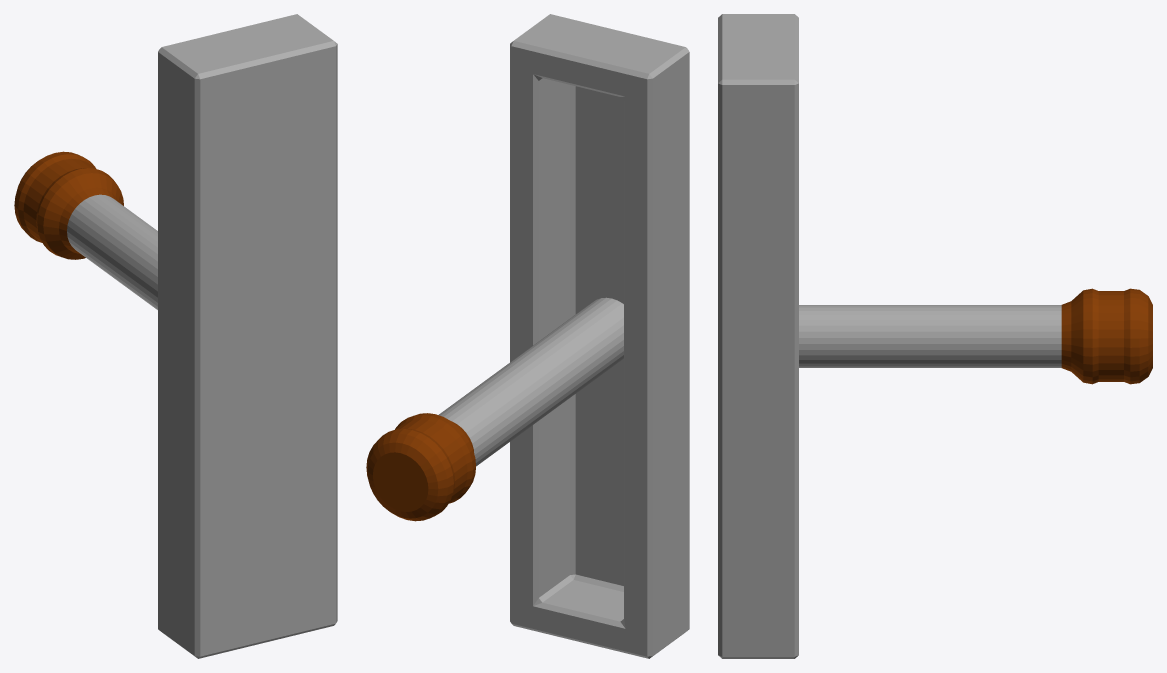
File: crank.fbx
3 views of the same model, side by side, from view 1: azimuth 30°, elevation 25°; view 2: azimuth 150°, elevation 25°; view 3: azimuth 270°, elevation 25° (orthographic).
Parts seen in each view (by area): view 1: crankshorlder.001, cranks.001; view 2: crankshorlder.001, cranks.001; view 3: crankshorlder.001, cranks.001.
Part boxes in pixels (<box>): crankshorlder.001: <box>158,14,337,658</box>; cranks.001: <box>14,151,157,309</box>; crankshorlder.001: <box>510,14,689,658</box>; cranks.001: <box>366,297,623,521</box>; crankshorlder.001: <box>718,14,798,658</box>; cranks.001: <box>799,288,1152,384</box>.
Size of the model in its own units: 6.09 by 23.8 by 16.19.
